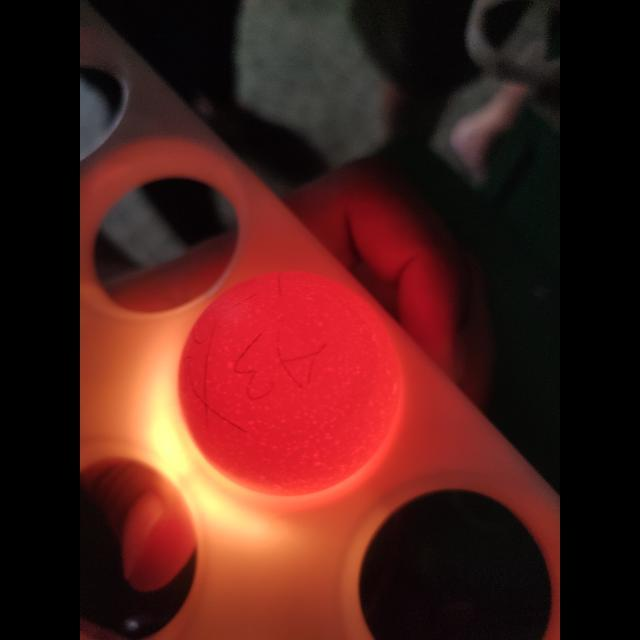Infertile: (175, 258, 413, 502)
